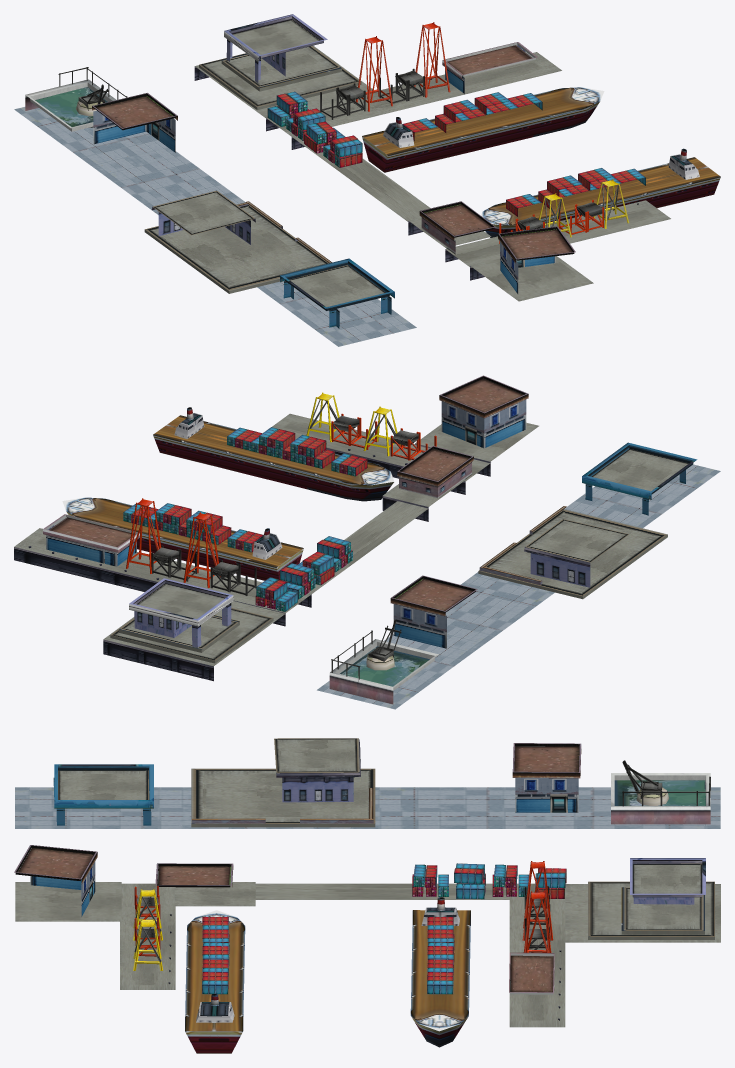
File: ny_port3.fbx
3 renders of one model, top to bottom at view 1: azimuth 30°, elevation 25°; view 2: azimuth 150°, elevation 25°; view 3: azimuth 270°, elevation 25°, orthographic. The views are drawn at different scales.
Visible parts, largest first — view 1: port3, port_props3; view 2: port3, port_props3; view 3: port3, port_props3.
Boxes of the visible parts, box(x1,y1,x2,y2) form: port3: box(14, 14, 720, 346); port_props3: box(58, 22, 645, 243); port3: box(14, 375, 720, 709); port_props3: box(123, 392, 436, 681); port3: box(14, 738, 720, 1053); port_props3: box(133, 760, 710, 994).
Size of the model in its own units: 8706 by 1442 by 10019.
